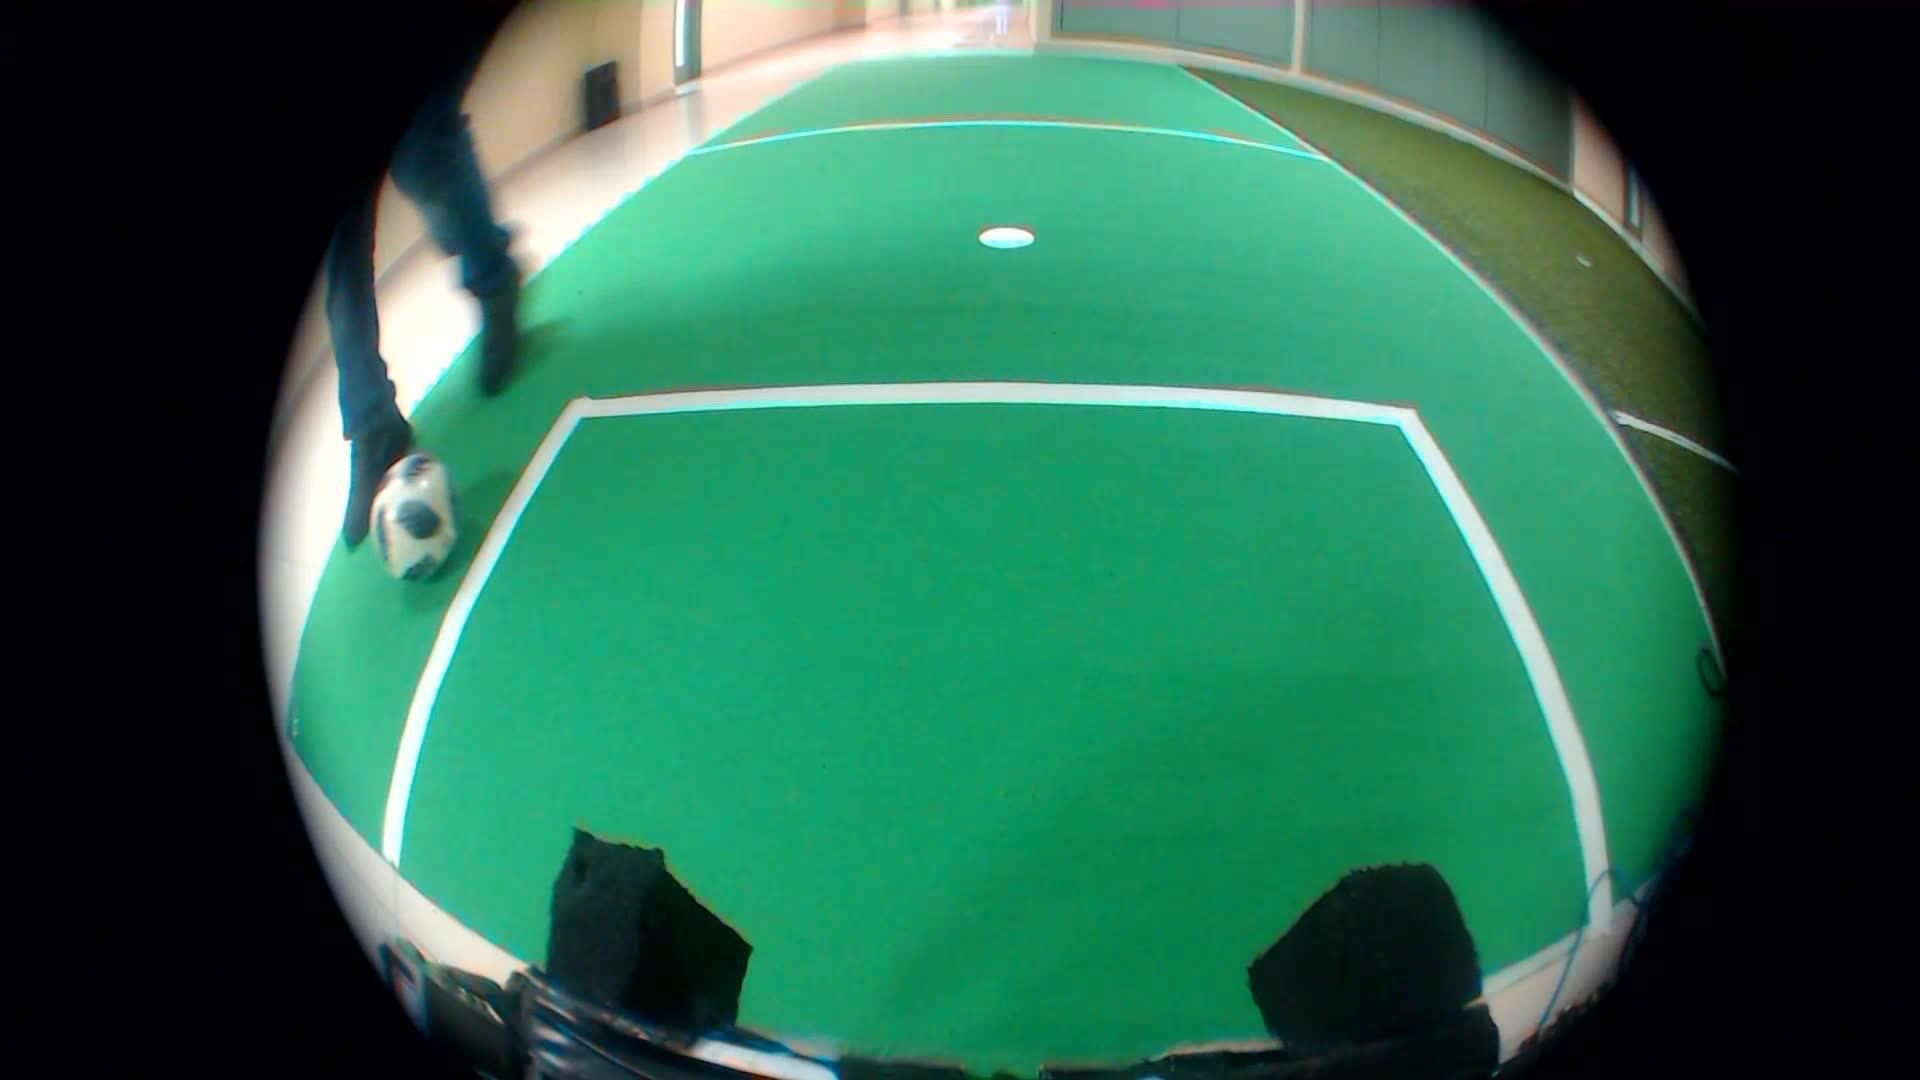ball: (334, 446, 493, 605)
